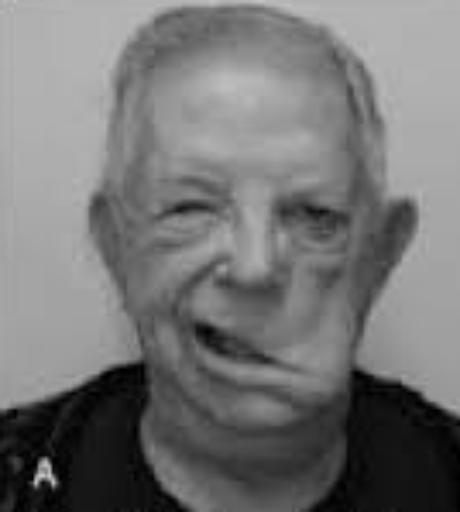left_eye: (281, 193, 355, 235)
left_lip_corner: (270, 348, 317, 380)
right_eye: (146, 196, 222, 232)
right_lip_corner: (184, 313, 214, 344)
